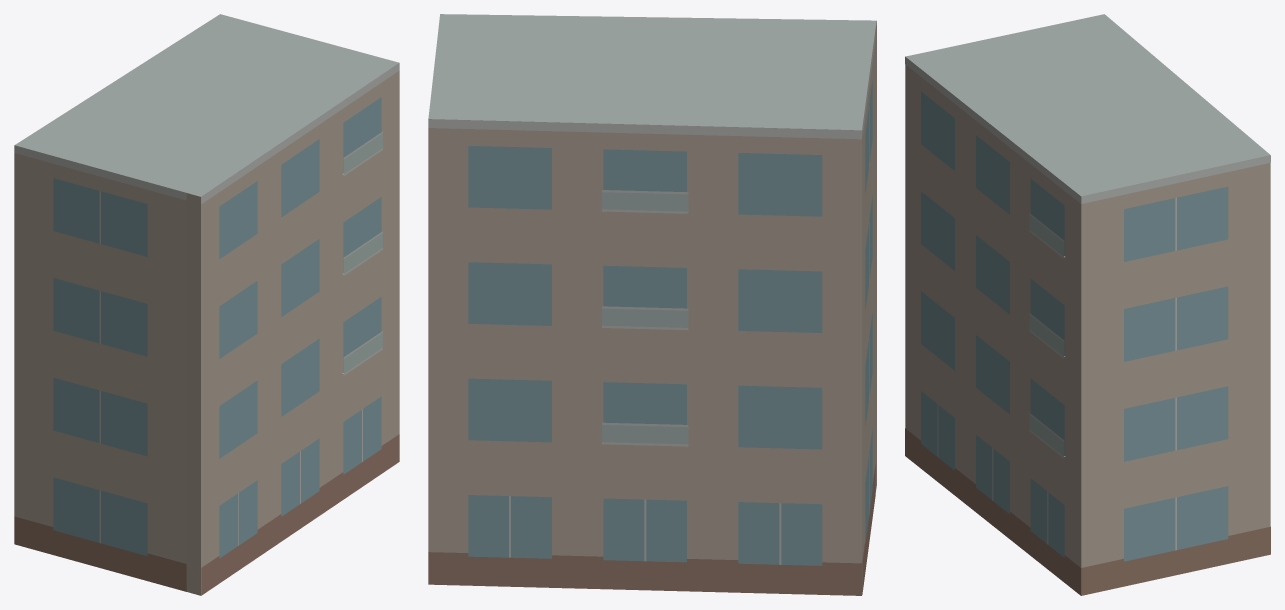
Rendered from survey-upis-33026297.glb.
The picture shows the model from 3 angles, left to right: view 1: azimuth 30°, elevation 25°; view 2: azimuth 150°, elevation 25°; view 3: azimuth 270°, elevation 25°; orthographic projection. The views are drawn at different scales.
Parts seen in each view (by area): view 1: survey-upis-33026297.tmp; view 2: survey-upis-33026297.tmp; view 3: survey-upis-33026297.tmp.
Boxes of the visible parts, box(x1,y1,x2,y2) form: survey-upis-33026297.tmp: box(14, 14, 399, 595); survey-upis-33026297.tmp: box(428, 14, 876, 595); survey-upis-33026297.tmp: box(905, 14, 1270, 595).
Size of the model in its own units: 12.46 by 12.71 by 10.55.
